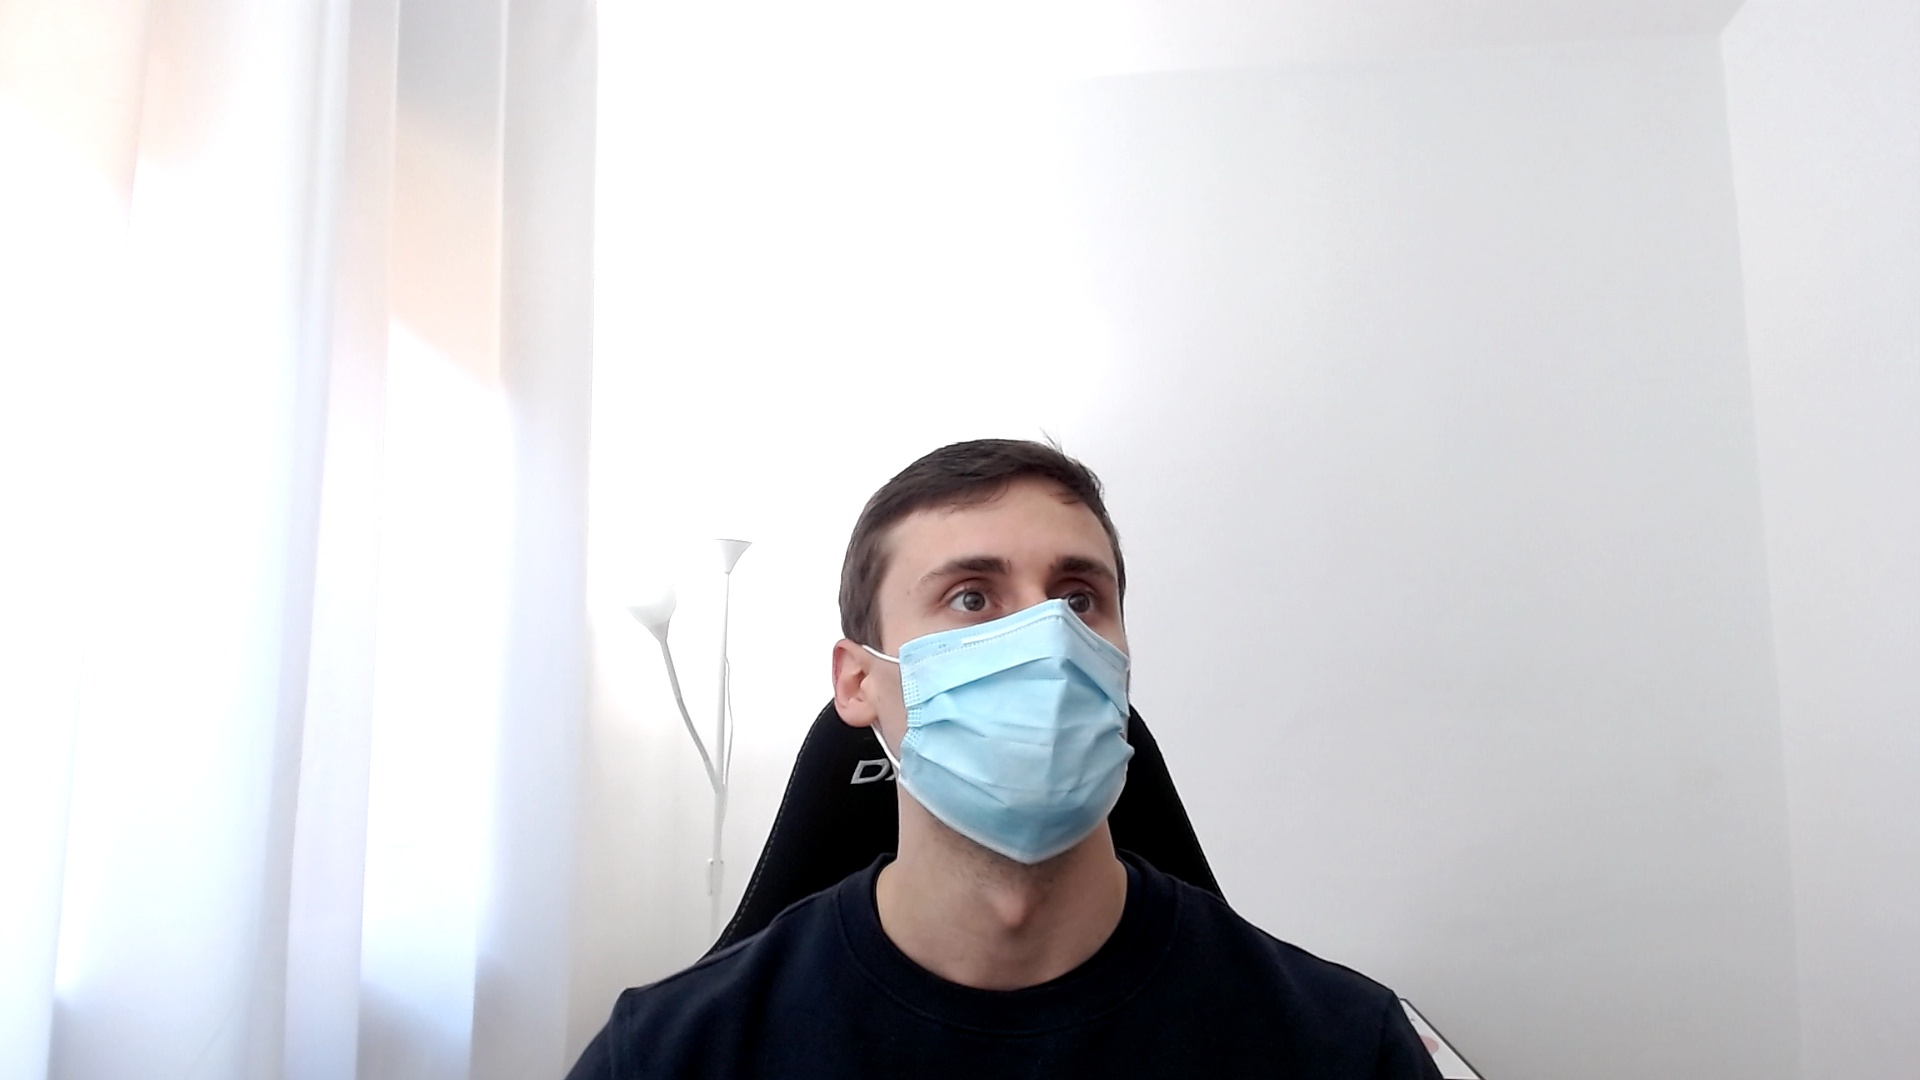Mask: (833, 438, 1134, 864)
